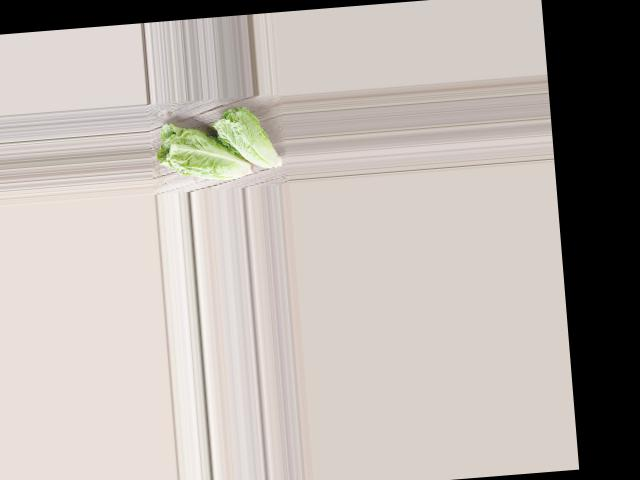lettuce: (209, 98, 287, 175)
